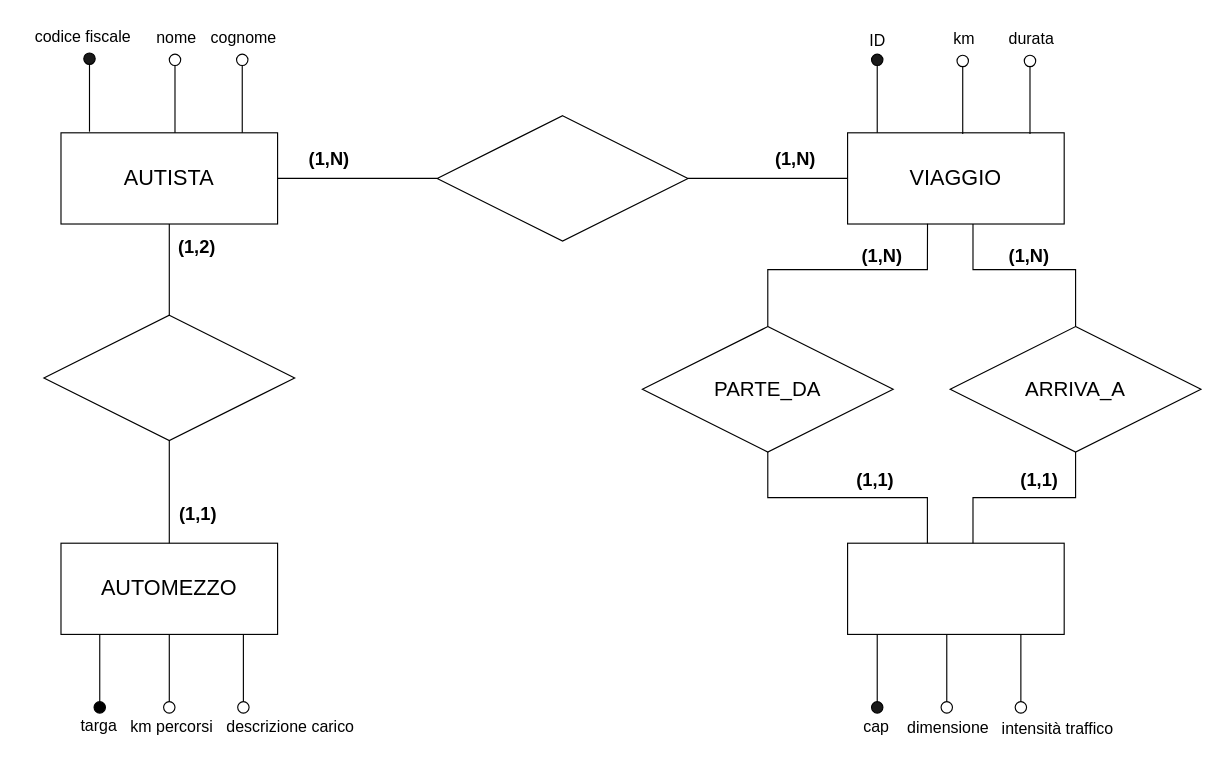
Image size: 1221x765. Some labels were removed from this diagram. The box of each missing label's shape, as (x1, y1, x2, y2) in pixels:
CITTA': (846, 542, 1064, 634)
EFFETTUA: (436, 115, 688, 241)
GUIDA: (43, 314, 295, 441)
